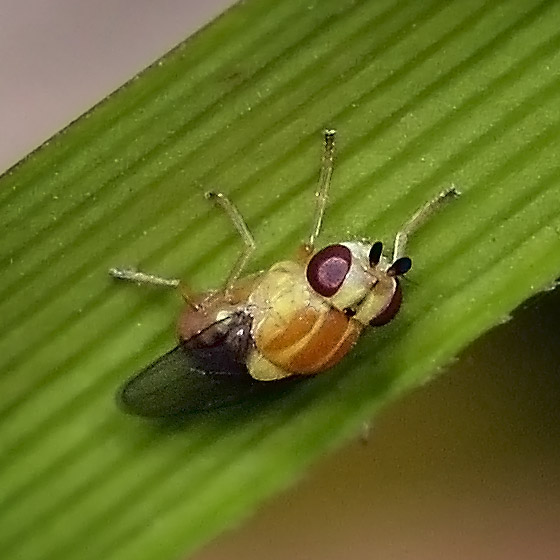Chloropidae: (106, 122, 470, 424)
